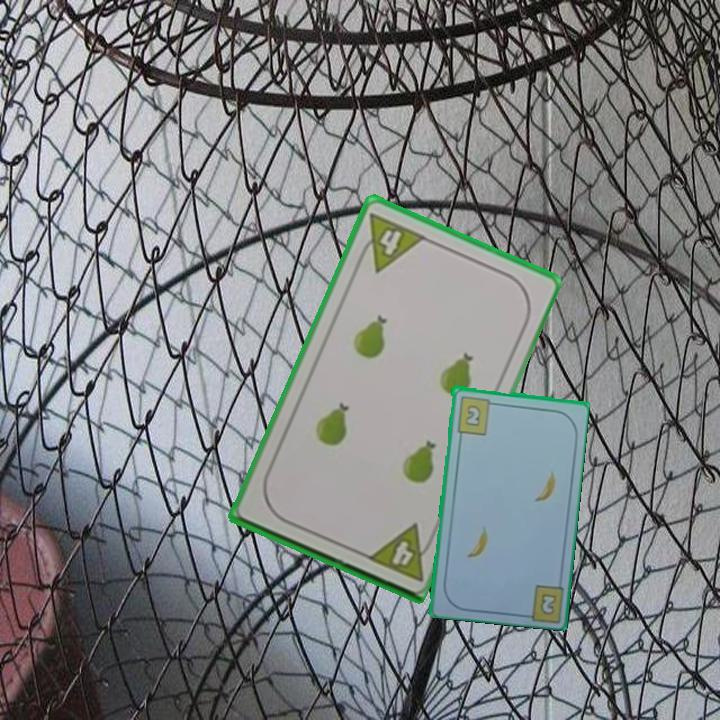2b: (453, 392, 498, 437), (538, 592, 557, 615)
4p: (352, 208, 428, 275), (362, 520, 438, 584)
